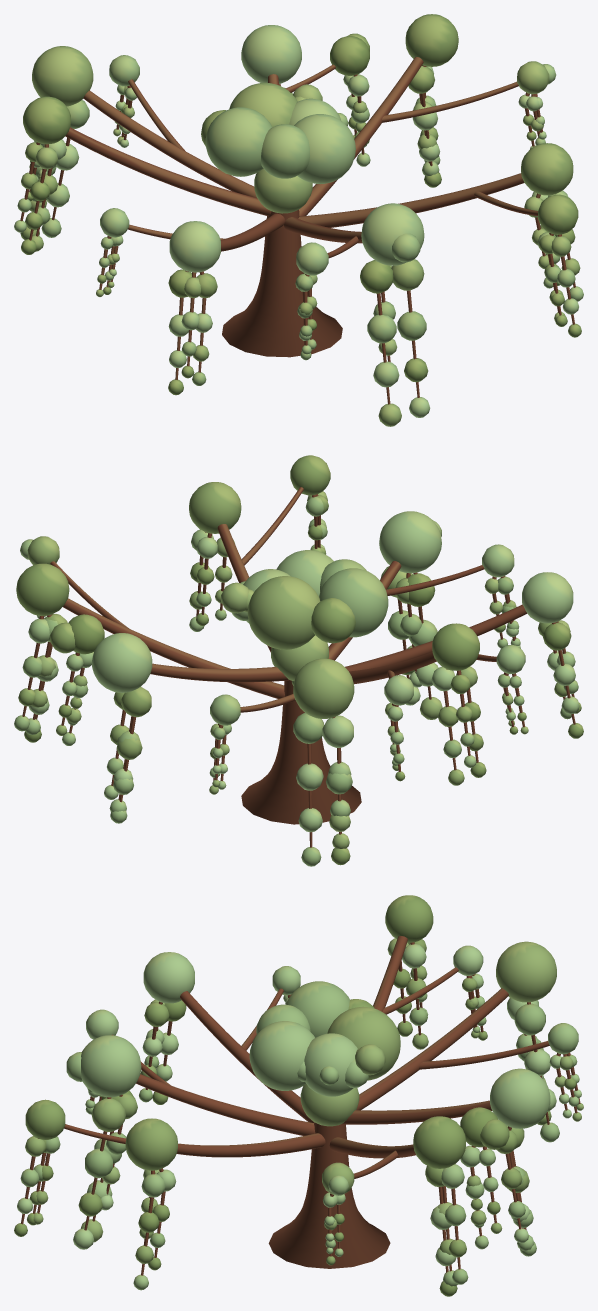
File: colony-tree-22.obj
3 views of the same model, one above another, from view 1: azimuth 30°, elevation 25°; view 2: azimuth 150°, elevation 25°; view 3: azimuth 270°, elevation 25° (orthographic).
Parts seen in each view (by area): view 1: tree; view 2: tree; view 3: tree.
Part boxes in pixels (x1=…): tree: x1=14, y1=14, x2=583, y2=426; tree: x1=14, y1=455, x2=583, y2=866; tree: x1=14, y1=895, x2=583, y2=1296.
Size of the model in its own units: 838 by 409 by 829.
